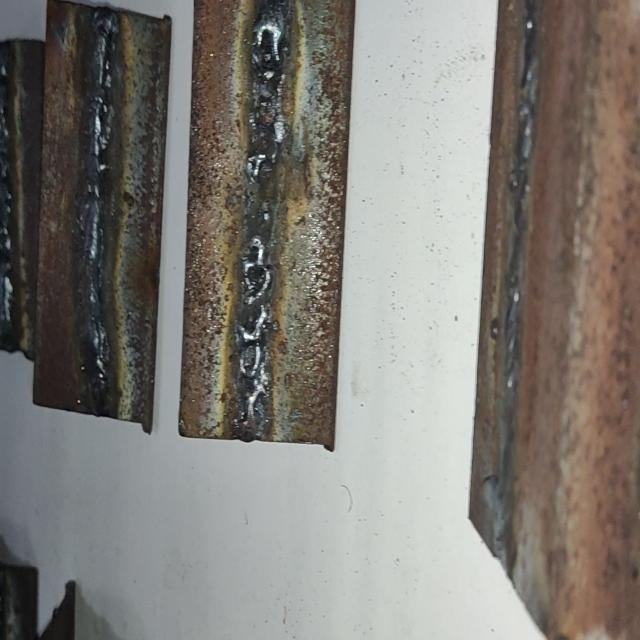Bad Weld: (230, 5, 292, 433), (78, 5, 121, 401)
Defect: (233, 27, 283, 444), (90, 25, 114, 413)
